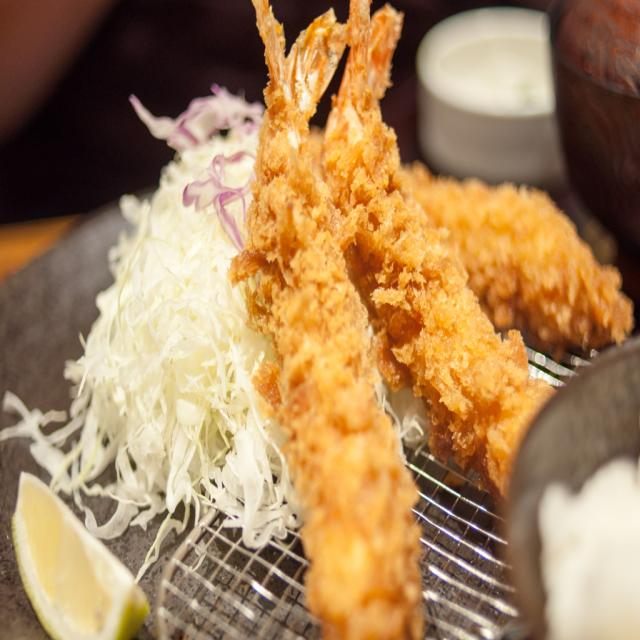Lemon: (8, 472, 150, 639)
